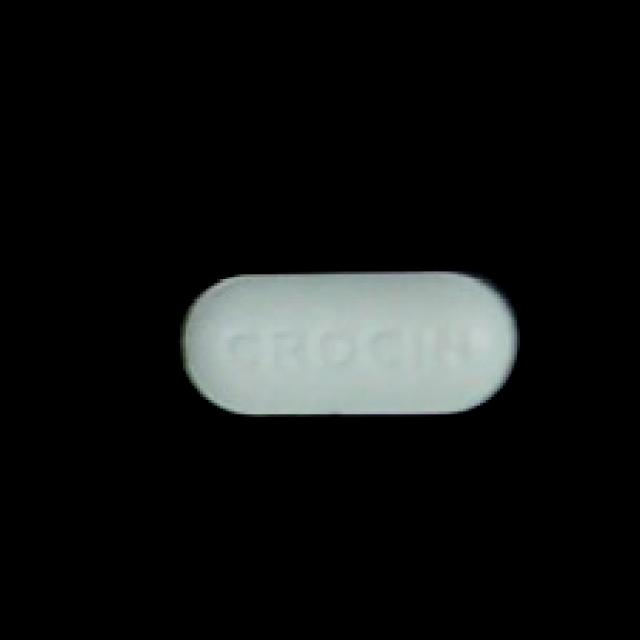no-defect: (171, 260, 523, 420)
